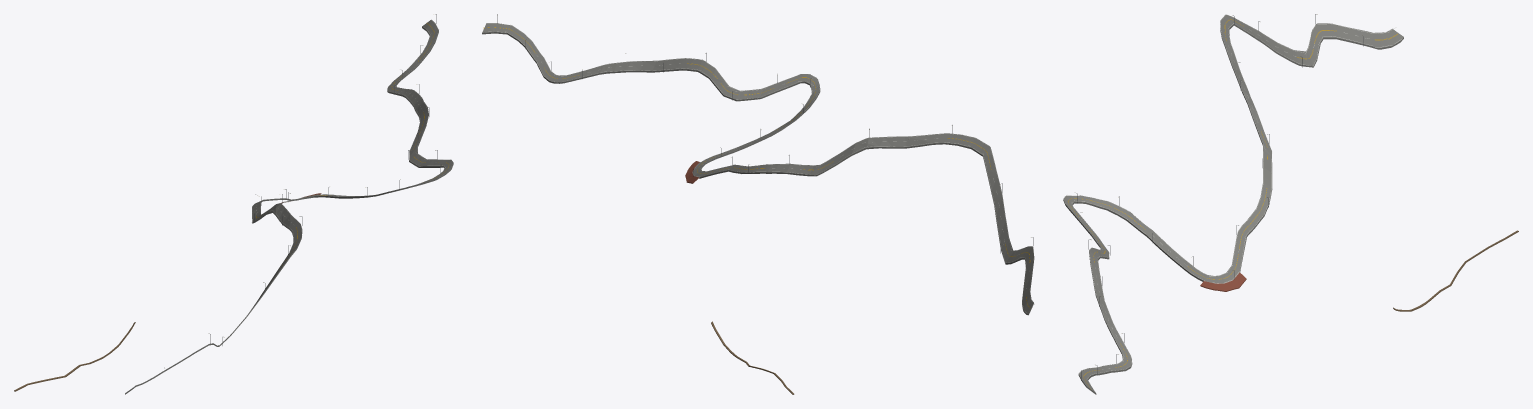
3 renders of one model, left to right at view 1: azimuth 90°, elevation 25°; view 2: azimuth 150°, elevation 25°; view 3: azimuth 270°, elevation 25°, orthographic. The views are drawn at different scales.
Size of the model in its own units: 590 by 158 by 307.
